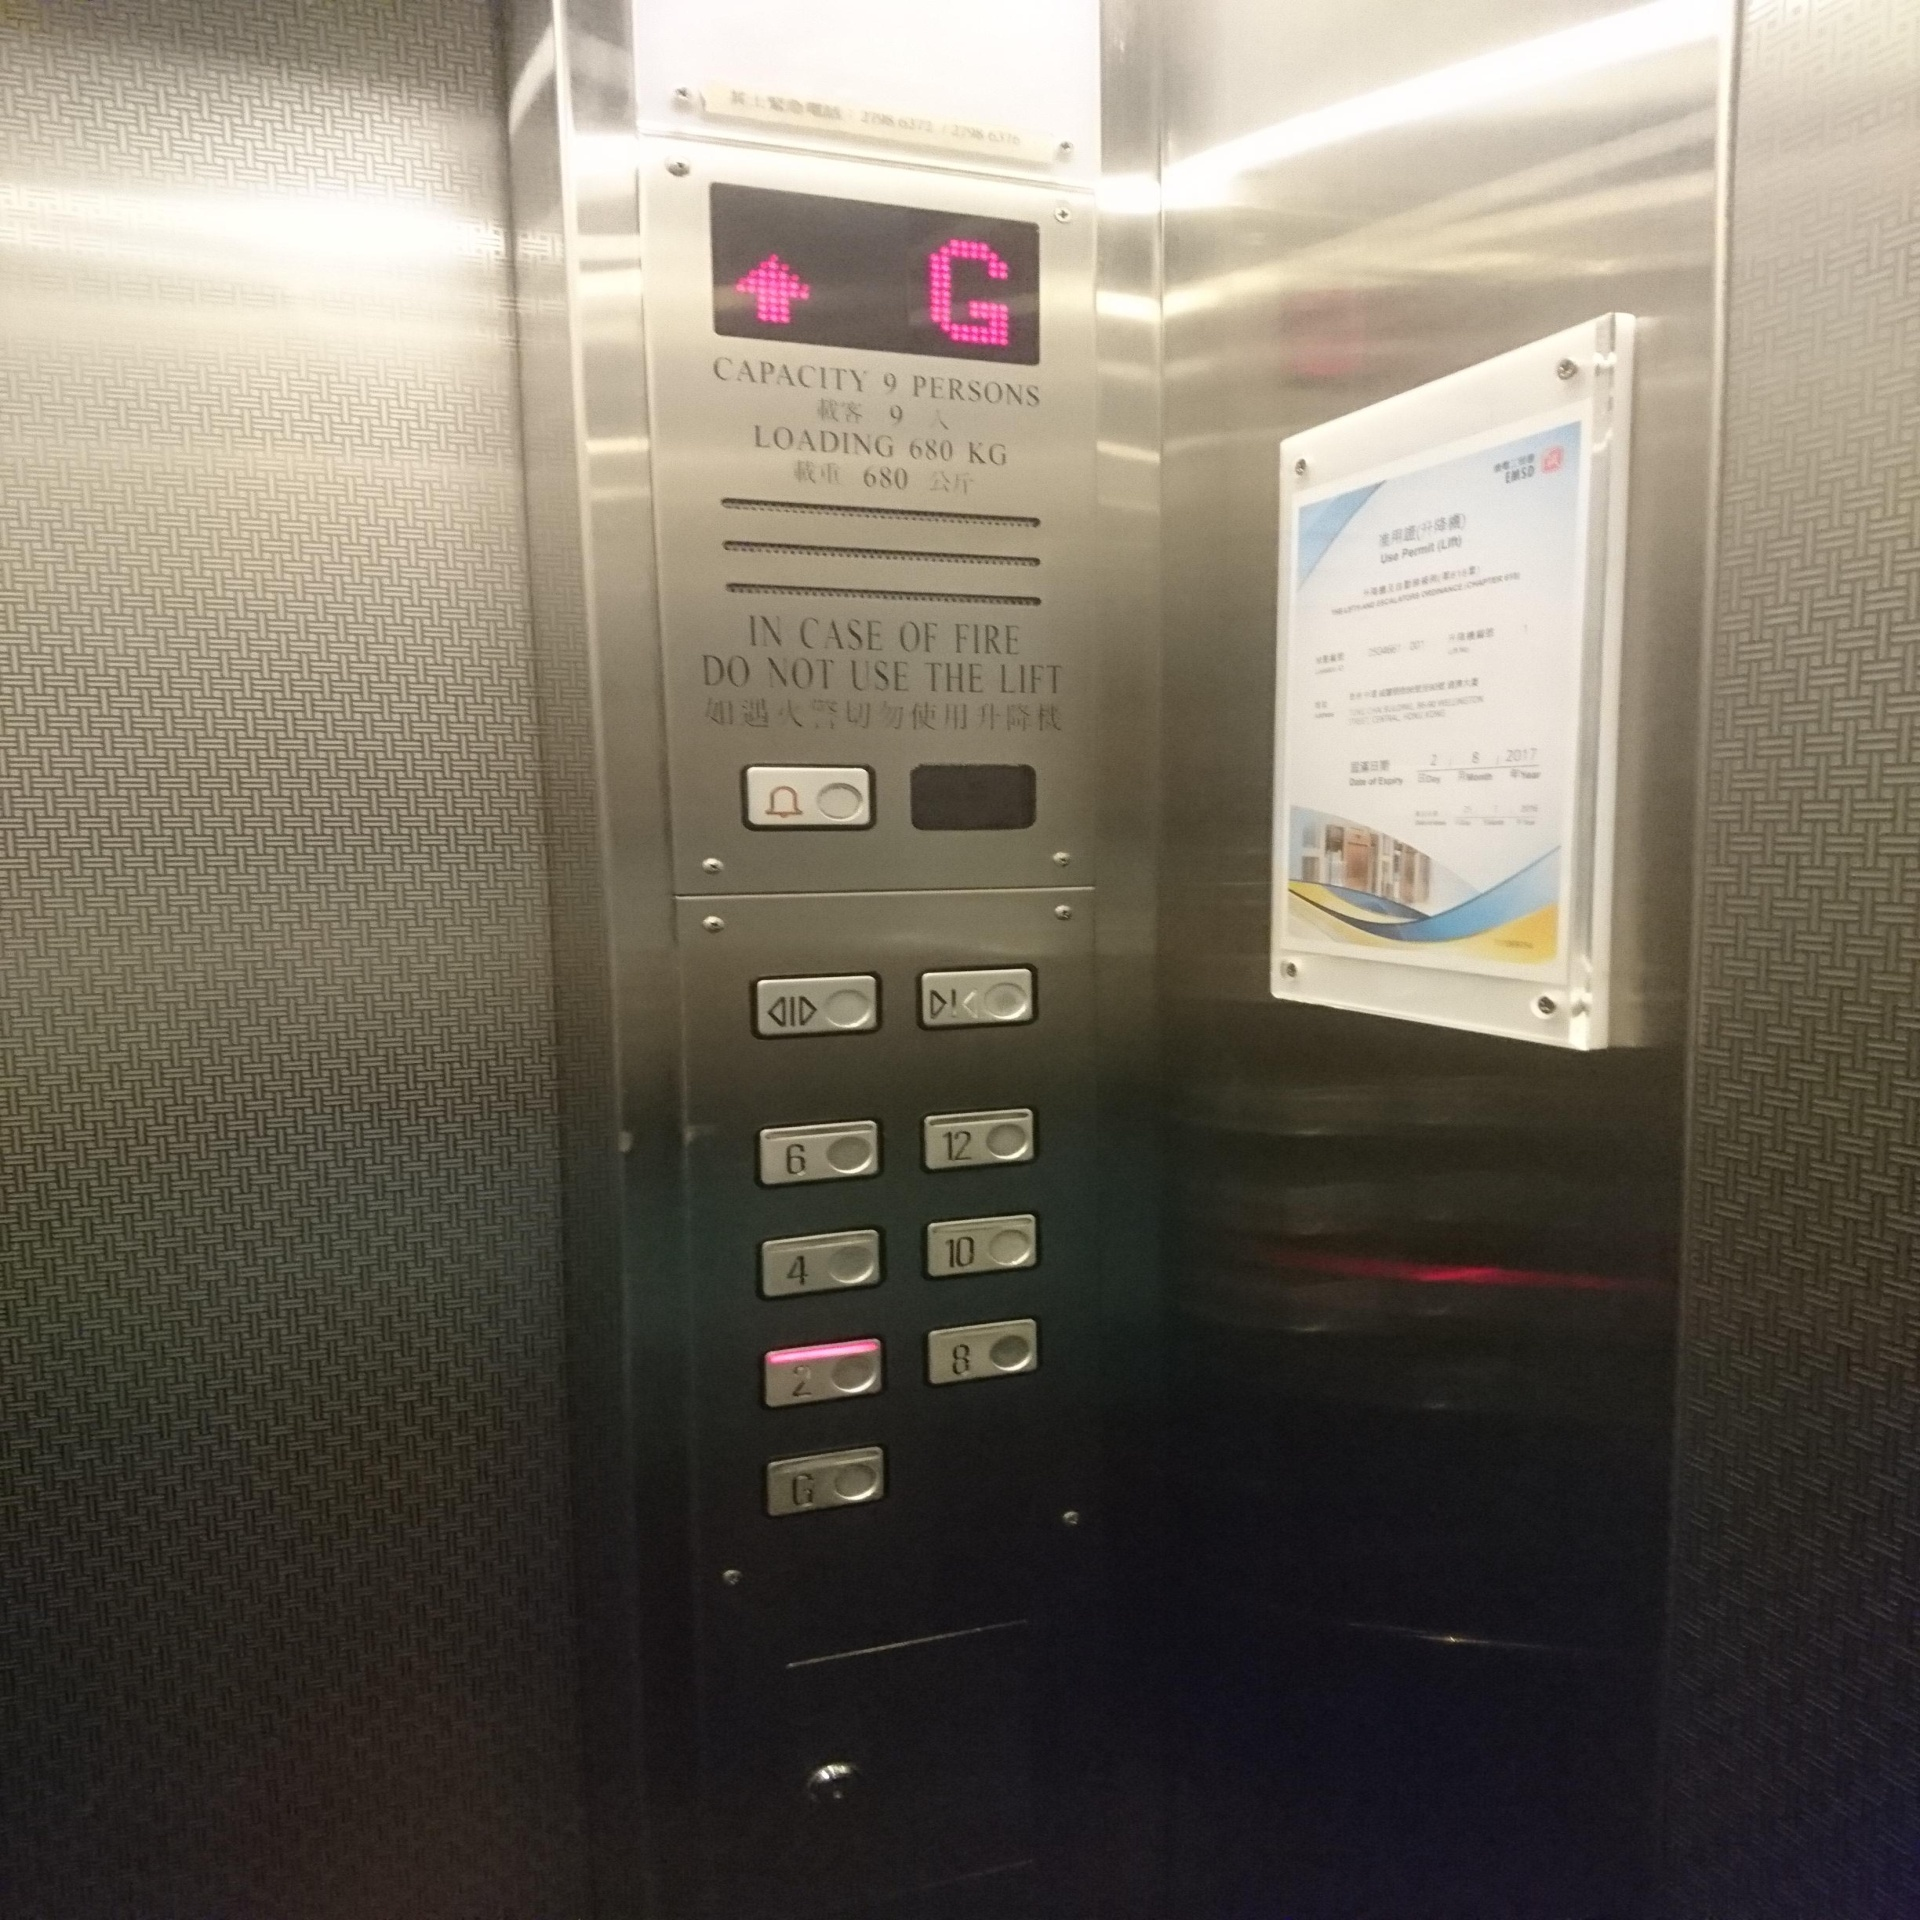10: (920, 1211, 1041, 1280)
12: (918, 1104, 1043, 1175)
2: (754, 1335, 890, 1412)
4: (753, 1225, 888, 1303)
6: (753, 1115, 888, 1190)
8: (913, 1313, 1046, 1391)
G: (758, 1442, 891, 1519)
alarm: (733, 754, 881, 839)
close: (913, 960, 1044, 1034)
empty: (898, 754, 1044, 839)
led: (695, 164, 1048, 378)
open: (749, 965, 886, 1043)
